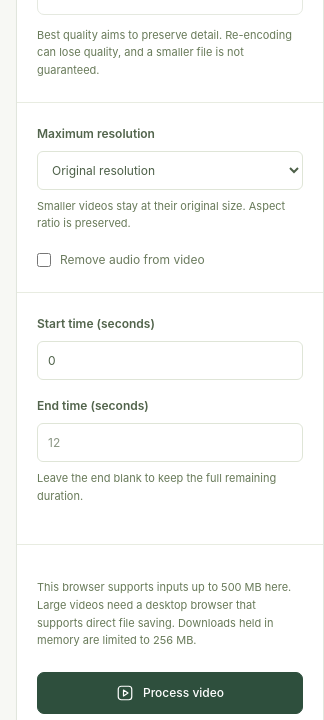
Scenario: passes trim, resize, mute, and quality choices and rejects invalid trim ranges
The width and height of the screenshot is (324, 720).
Earlier steps of the test are not shown.
Later steps or results of the test are not shown.
(page scrolled)
Expected: the button "Process video" is enabled, [37,672,303,714]
Replace the text in the number field labelled "Start time (seconds)" with "-1" at coordinates (170, 361), box [37,341,303,380]
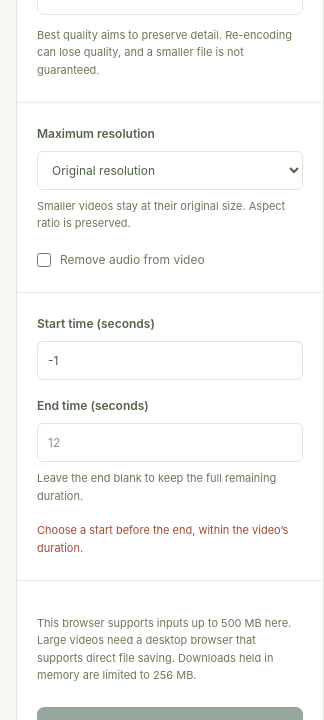
Replace the text in the number field labelled "Start time (seconds)" with "12" at coordinates (170, 361), box [37,341,303,380]
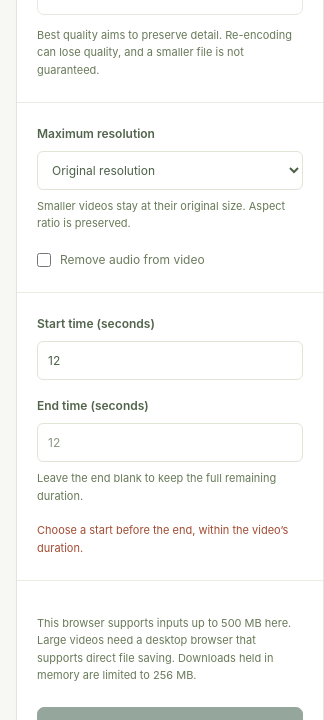
Replace the text in the number field labelled "Start time (seconds)" with "13" at coordinates (170, 361), box [37,341,303,380]
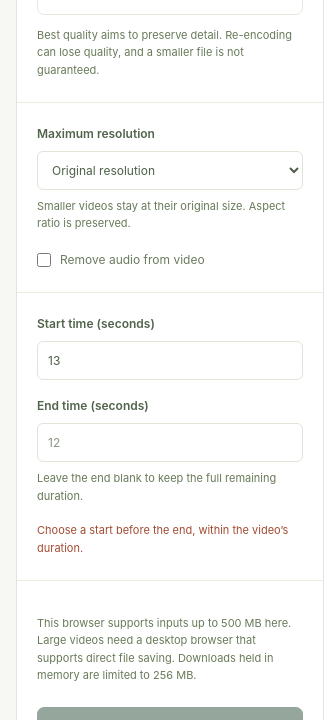
Replace the text in the number field labelled "Start time (seconds)" with "2" at coordinates (170, 361), box [37,341,303,380]
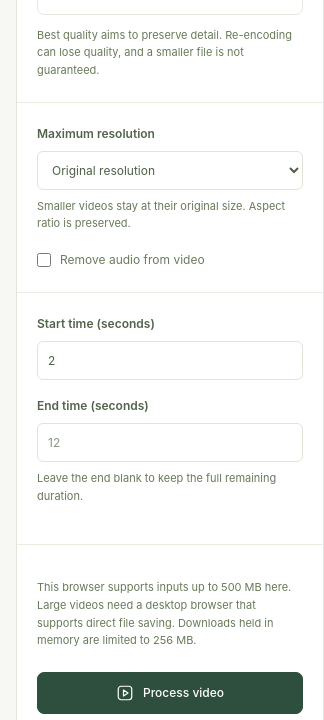
Type "13" into the number field labelled "End time" at coordinates (170, 443), box [37,423,303,462]
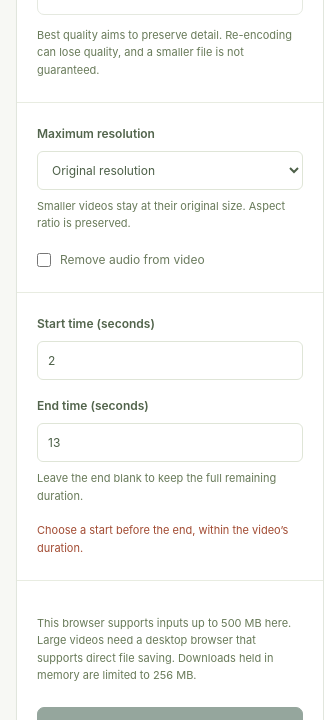
Result: the number field labelled "End time" is marked as invalid at [37,423,303,462]
